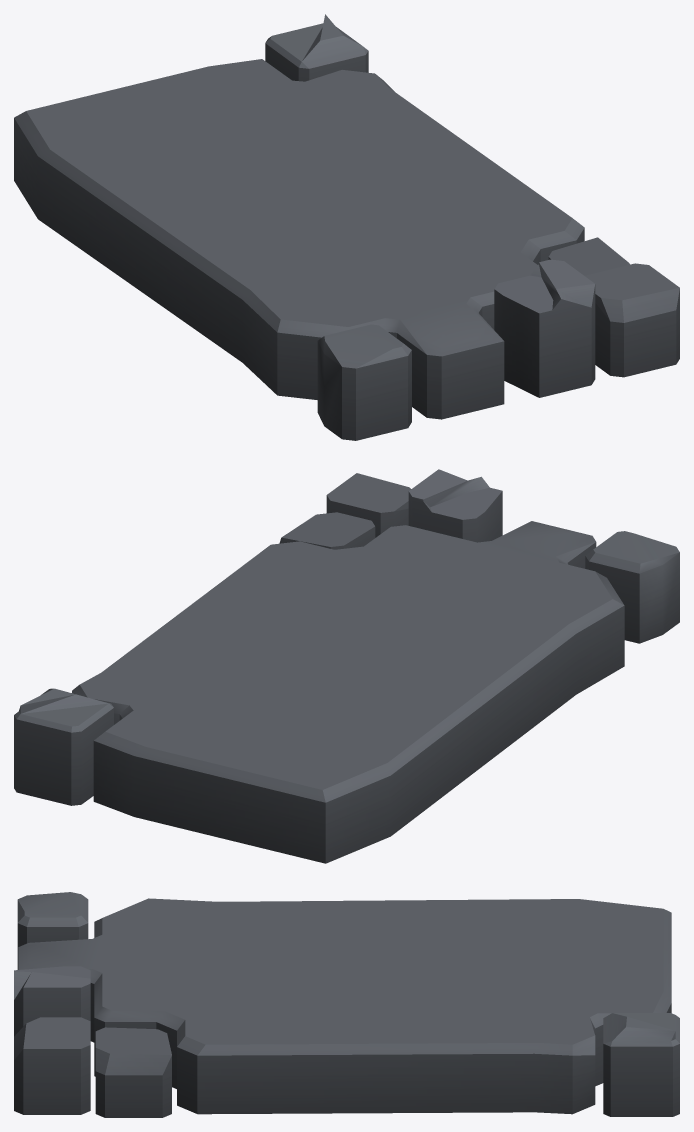
The model's file is Tomb Base 01.FBX.
3 views of the same model, one above another, from view 1: azimuth 30°, elevation 25°; view 2: azimuth 150°, elevation 25°; view 3: azimuth 270°, elevation 25° (orthographic). The views are drawn at different scales.
Visible parts, largest first — view 1: Tomb Base 01; view 2: Tomb Base 01; view 3: Tomb Base 01.
Part boxes in pixels (x1,y1,x2,y2): Tomb Base 01: (14,14,679,440); Tomb Base 01: (14,469,679,863); Tomb Base 01: (14,892,679,1117).
Bounding box in the file's own units: 218 × 57.41 × 390.
